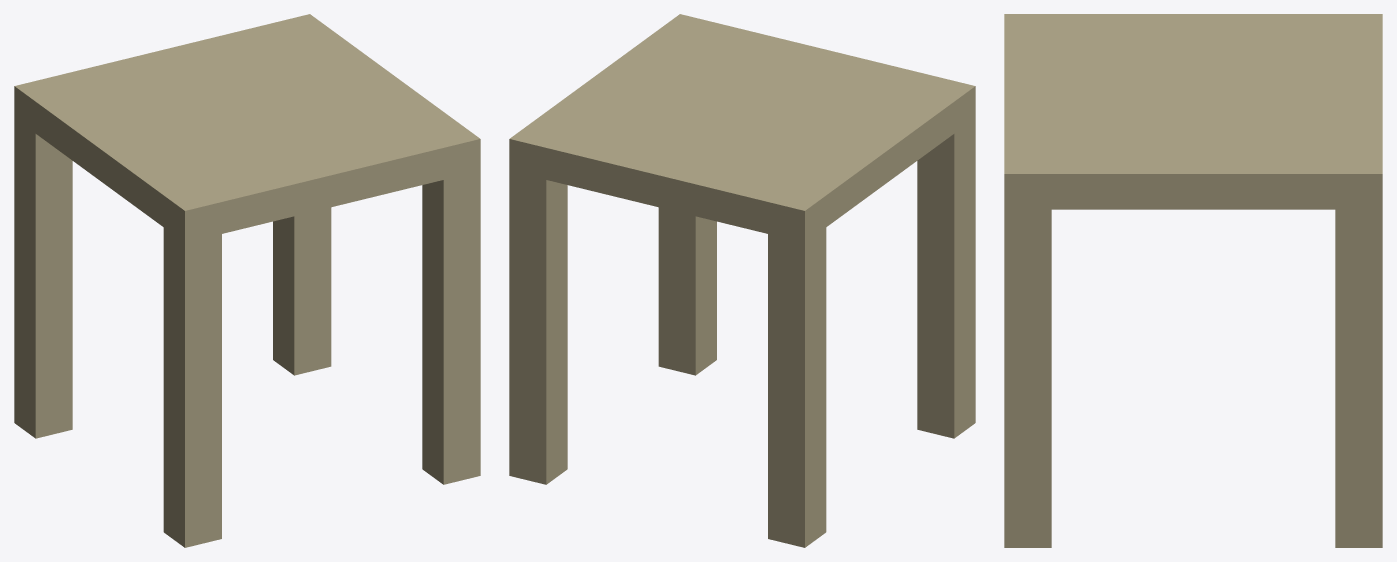
File: stool.fbx
The picture shows the model from 3 angles, left to right: view 1: azimuth 30°, elevation 25°; view 2: azimuth 150°, elevation 25°; view 3: azimuth 270°, elevation 25°; orthographic projection. The views are drawn at different scales.
Parts seen in each view (by area): view 1: pCube1; view 2: pCube1; view 3: pCube1.
Boxes of the visible parts, x1,y1,x2,y2 form: pCube1: (14,14,480,547); pCube1: (509,14,975,547); pCube1: (1004,14,1382,547).
Bounding box in the file's own units: 3.13 × 3.41 × 3.13.
